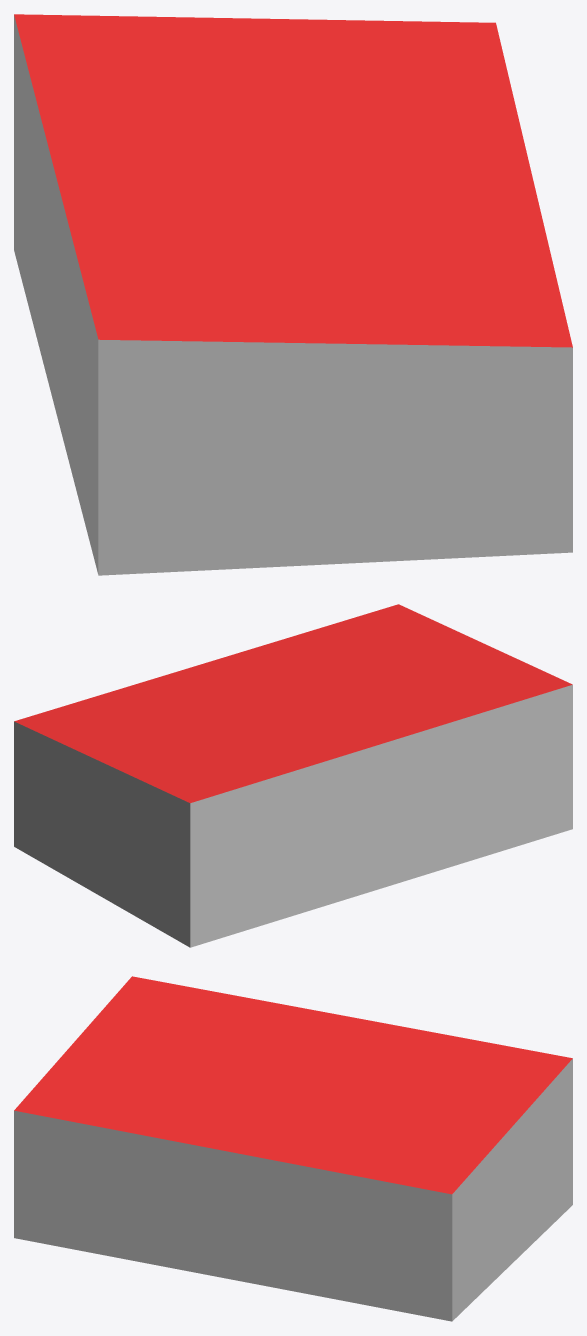
Rendered from DEBY_LOD2_4908049.dae.
3 renders of one model, top to bottom at view 1: azimuth 30°, elevation 25°; view 2: azimuth 150°, elevation 25°; view 3: azimuth 270°, elevation 25°, orthographic. The views are drawn at different scales.
Size of the model in its own units: 8.68 by 10.32 by 2.99.
